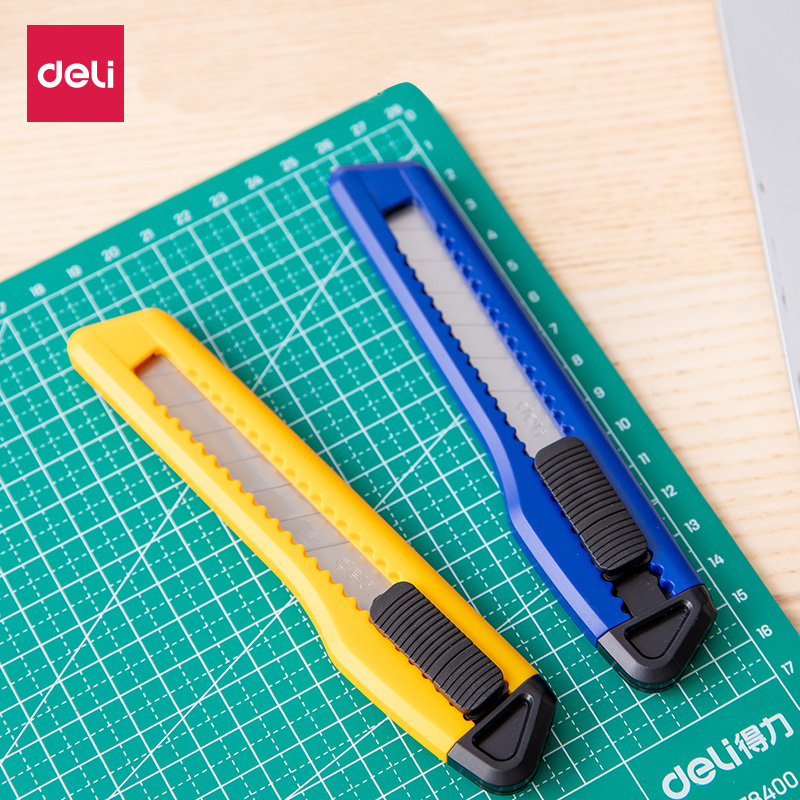cutter: (65, 305, 554, 796), (324, 161, 718, 694)
